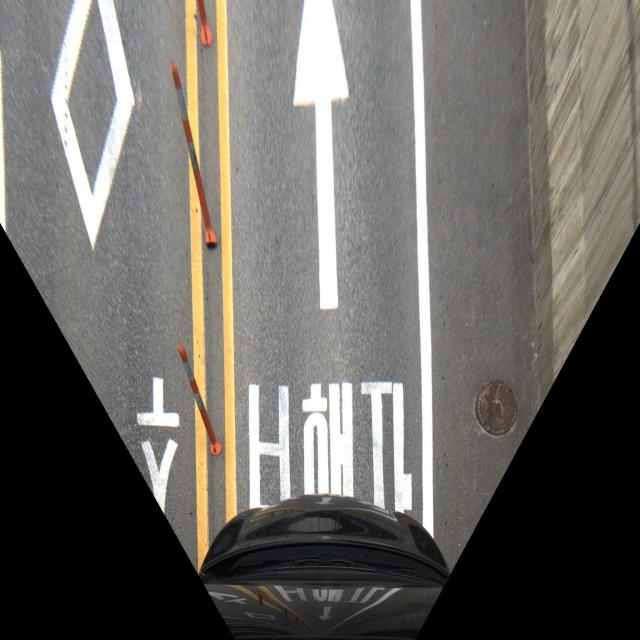diamond: (447, 381, 640, 640)
